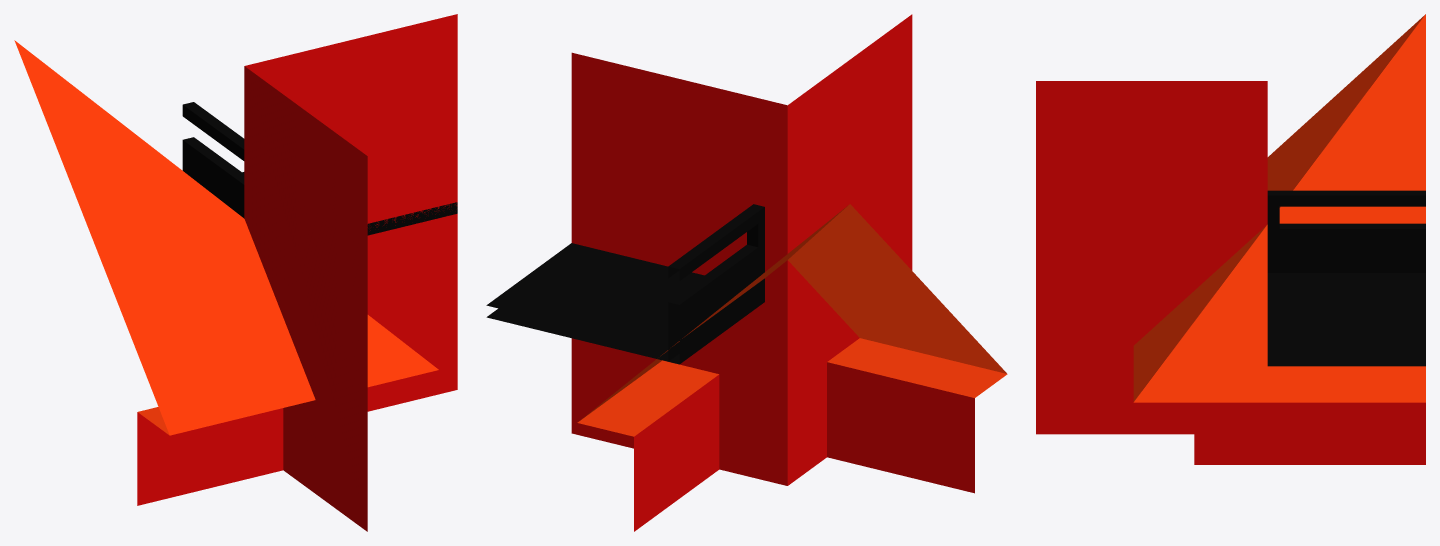
The picture shows the model from 3 angles, left to right: view 1: azimuth 30°, elevation 25°; view 2: azimuth 150°, elevation 25°; view 3: azimuth 270°, elevation 25°; orthographic projection. The views are drawn at different scales.
Parts seen in each view (by area): view 1: None_P_A_E_A_S_E_E_E_None; view 2: None_P_A_E_A_S_E_E_E_None; view 3: None_P_A_E_A_S_E_E_E_None.
Part boxes in pixels (x1,y1,x2,y2): None_P_A_E_A_S_E_E_E_None: (14,14,457,531); None_P_A_E_A_S_E_E_E_None: (486,14,1007,531); None_P_A_E_A_S_E_E_E_None: (1036,14,1425,464).
Bounding box in the file's own units: 100 × 100 × 100.
